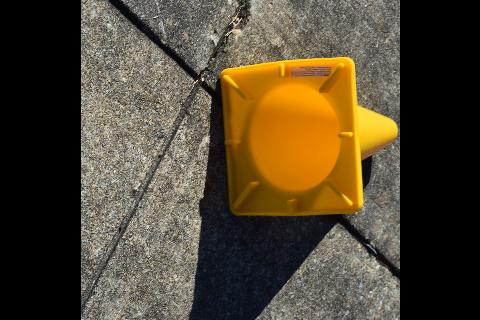cone: (220, 57, 400, 216)
